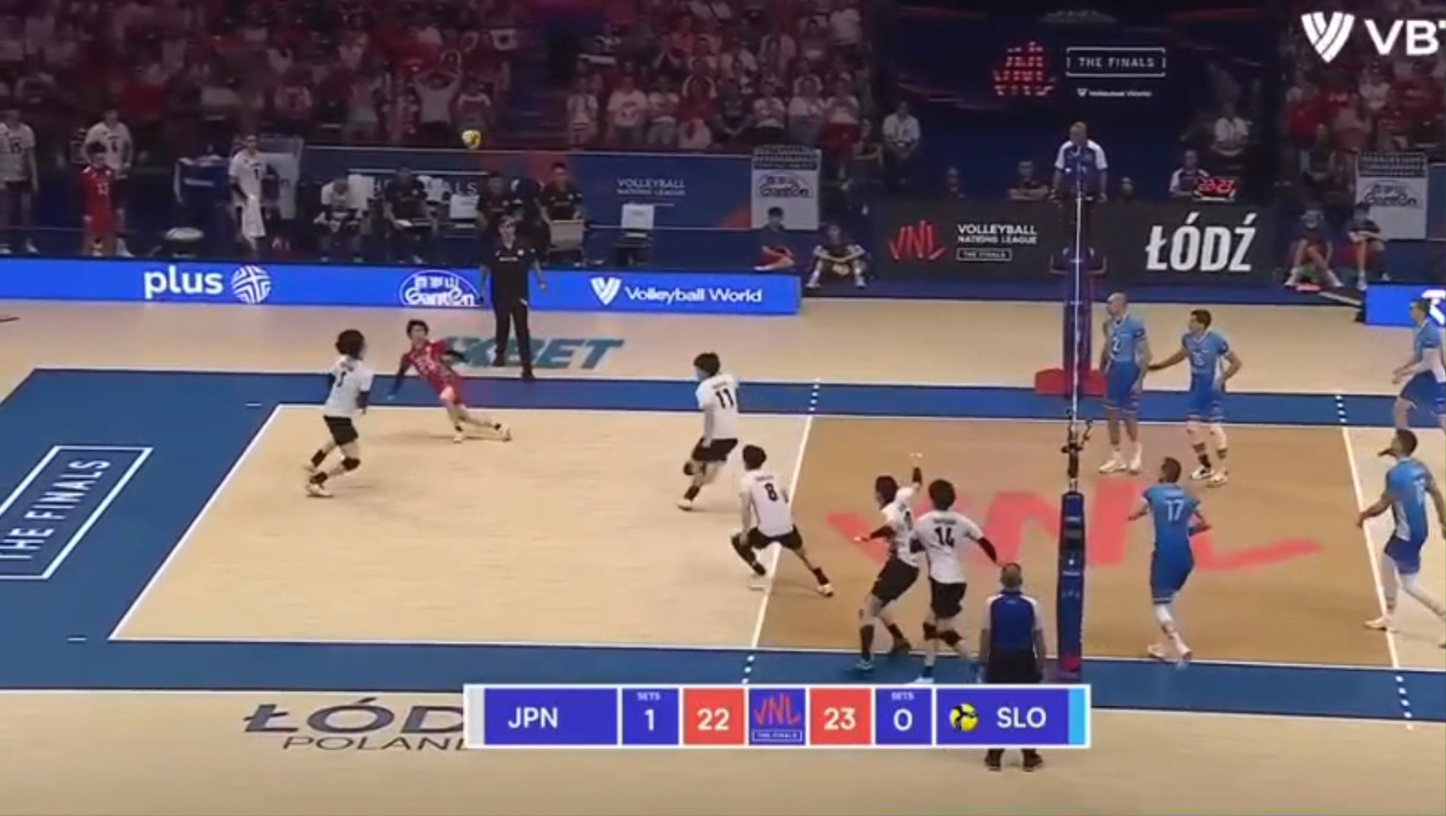ball: (460, 128, 482, 150)
player: (1357, 429, 1445, 631), (1128, 457, 1210, 663), (1150, 309, 1240, 459), (1098, 292, 1151, 474), (1392, 299, 1445, 429), (1192, 458, 1227, 484)
player 1: (909, 479, 997, 682), (731, 444, 833, 596), (390, 320, 509, 440), (857, 463, 922, 670), (306, 329, 374, 496), (678, 352, 743, 510)
referee: (481, 217, 545, 380), (1052, 122, 1108, 274), (979, 562, 1046, 684), (1021, 747, 1043, 770), (984, 746, 1004, 770)
